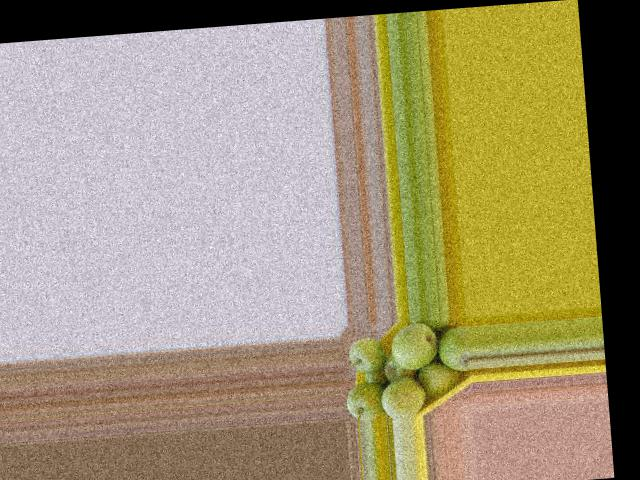apple: (418, 358, 462, 402)
